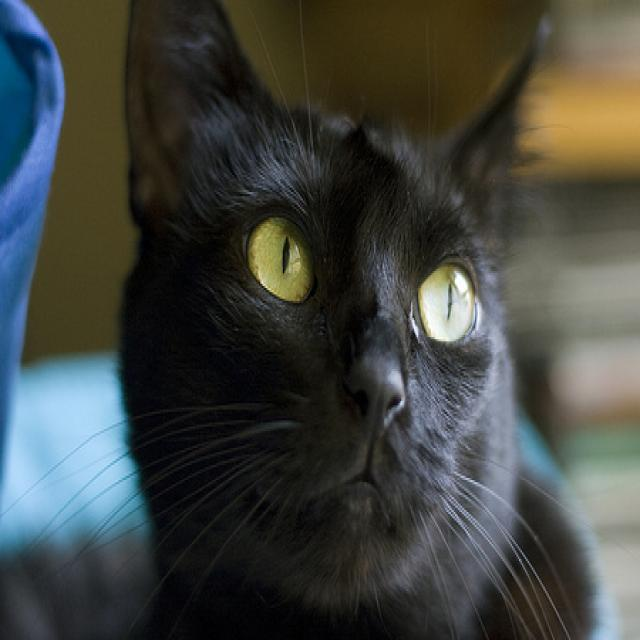Bombay: (115, 0, 606, 640)
